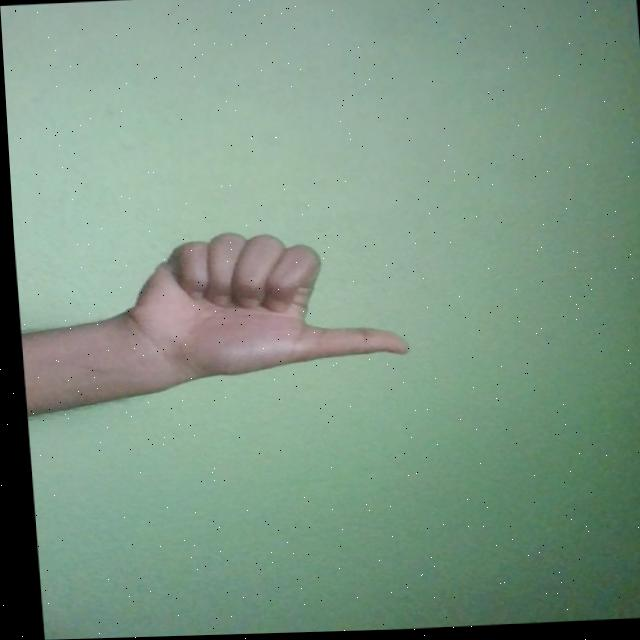Good Job: (114, 226, 405, 382)
